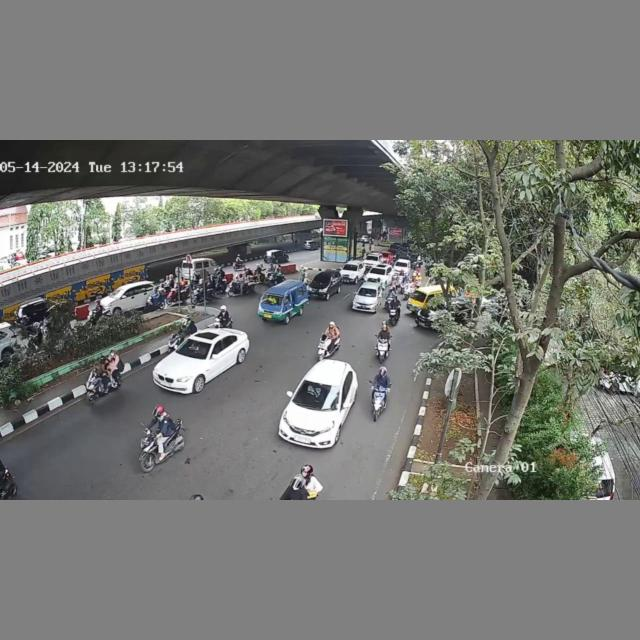windshield: (296, 380, 341, 411), (175, 339, 213, 357), (259, 291, 286, 307)
